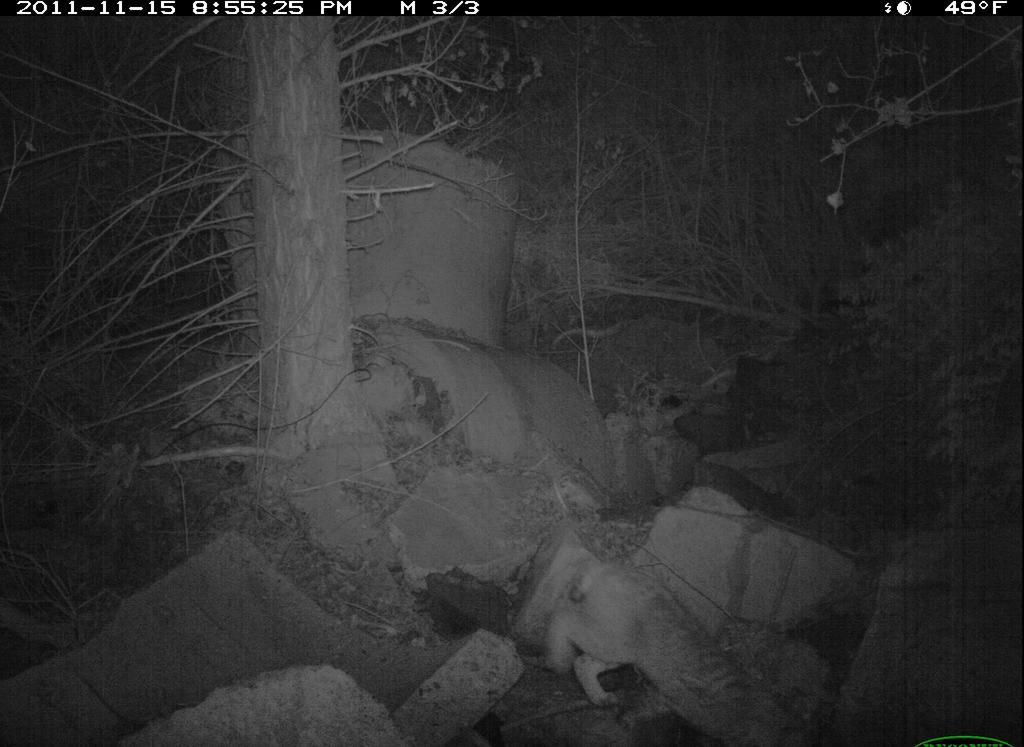bobcat: (538, 545, 824, 747)
